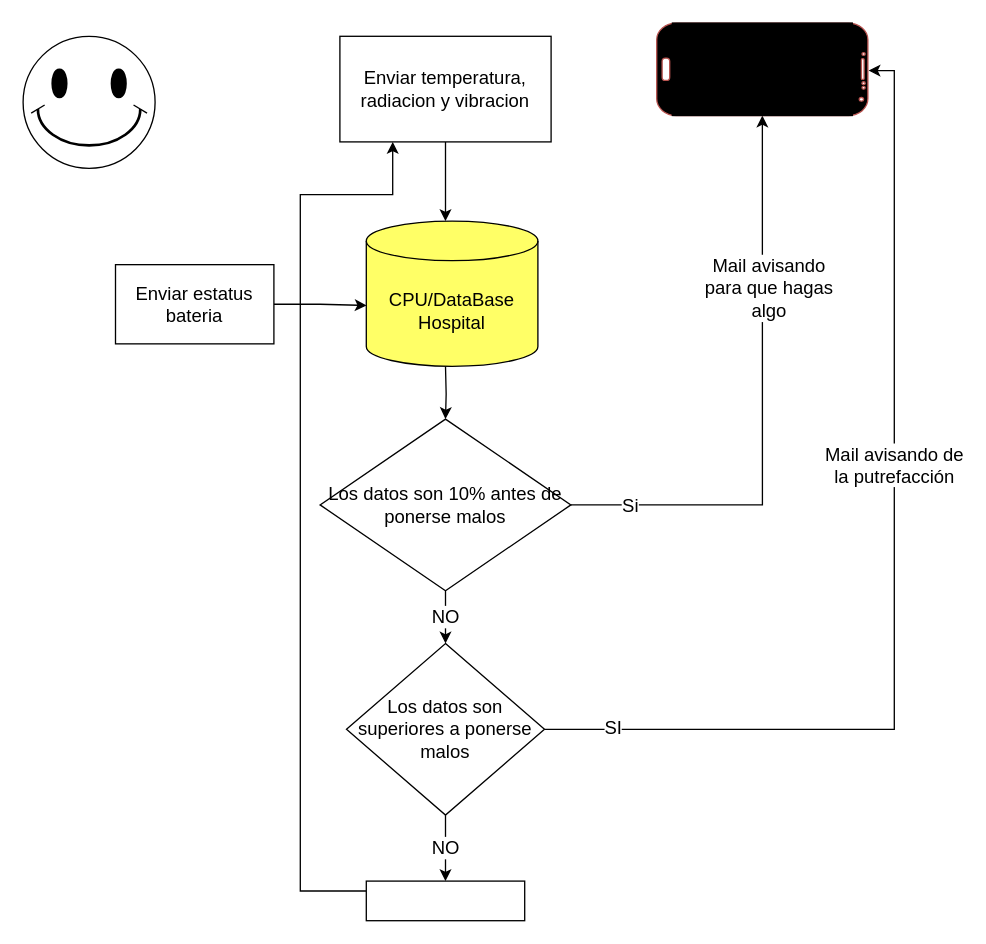
Some shapes in this 986 by 944 pixel diagram are drawn without their labels. The centre of each missing label's shape, as x and y in pixels:
10 min: the point at 445,900
Movil de cliente: the point at 761,69
